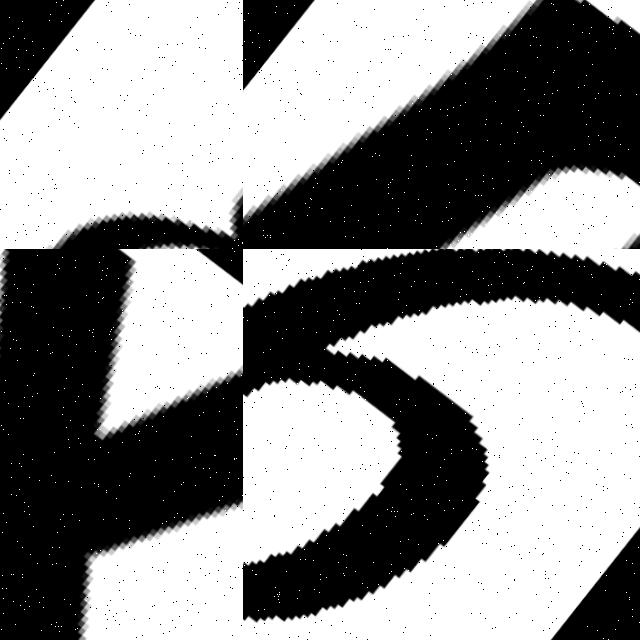6: (243, 249, 640, 640)
G: (0, 0, 243, 249)
N: (243, 0, 640, 249)
X: (0, 249, 243, 640)
